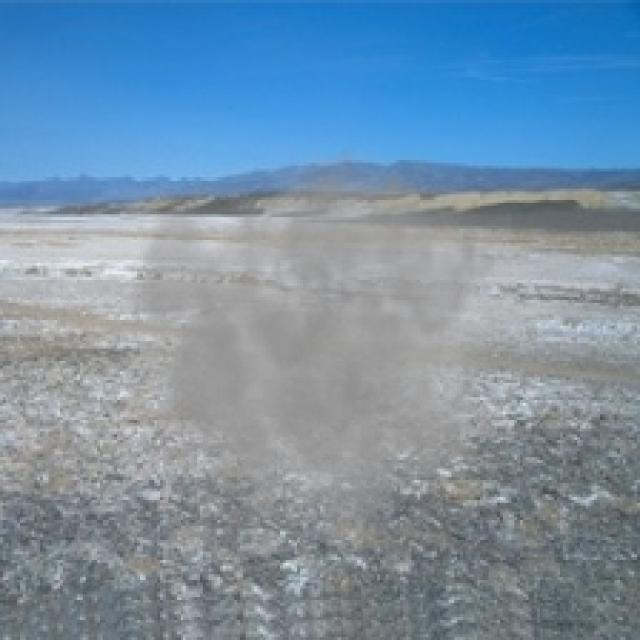Smoke: (97, 140, 512, 566)
